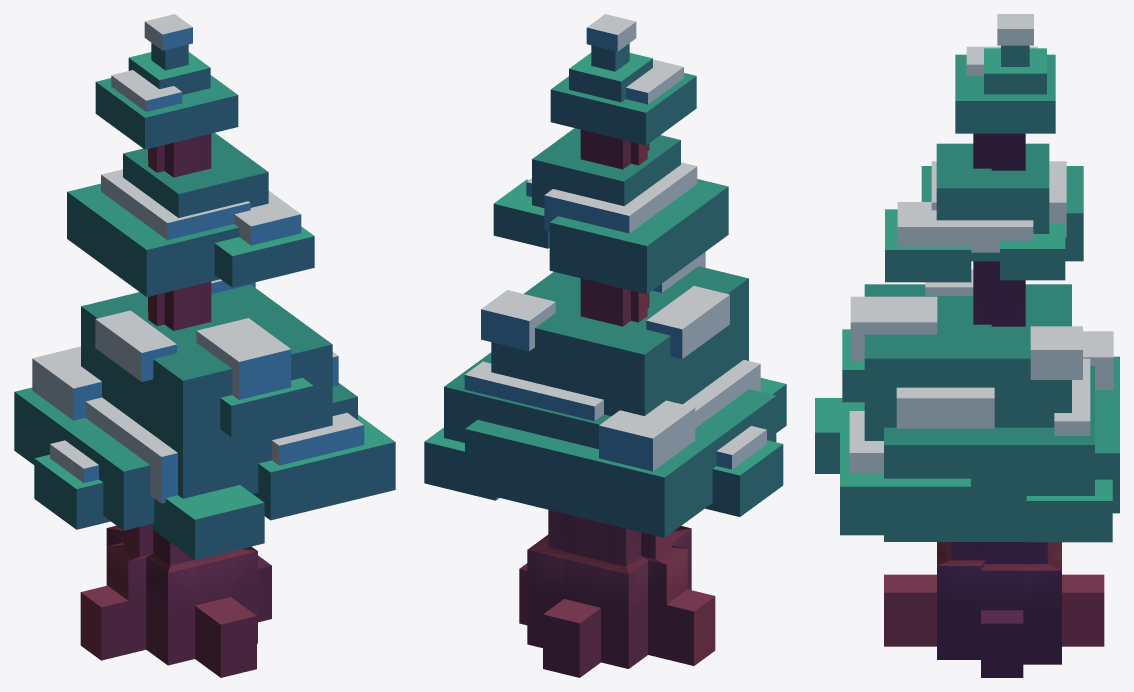
The model's file is Tree_06.fbx.
The picture shows the model from 3 angles, left to right: view 1: azimuth 30°, elevation 25°; view 2: azimuth 150°, elevation 25°; view 3: azimuth 270°, elevation 25°; orthographic projection. The views are drawn at different scales.
Visible parts, largest first — view 1: Tree_06, Snow; view 2: Tree_06, Snow; view 3: Tree_06, Snow.
Part boxes in pixels (x1,y1,x2,y2): Tree_06: (14, 43, 395, 677); Snow: (32, 14, 364, 503); Tree_06: (424, 43, 786, 677); Snow: (464, 14, 766, 471); Tree_06: (815, 45, 1119, 677); Snow: (849, 14, 1113, 473).
Size of the model in its own units: 212 by 453 by 204.
